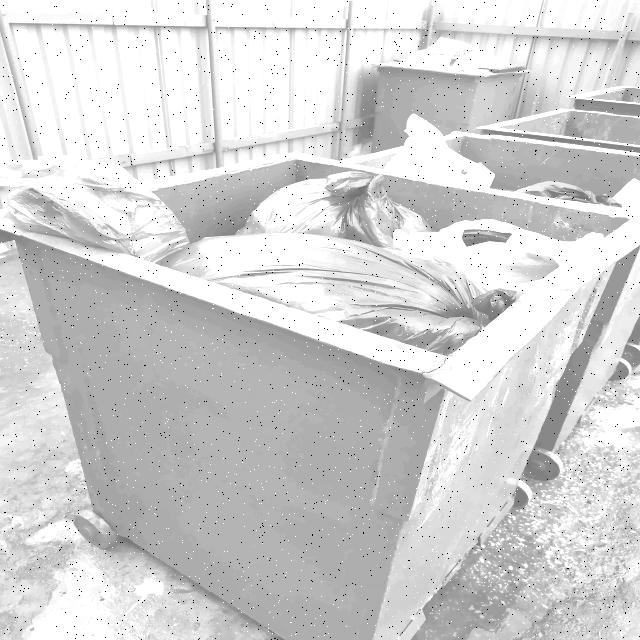Trashcan: (0, 120, 640, 640), (352, 104, 640, 458), (351, 29, 538, 180), (484, 85, 640, 244)
